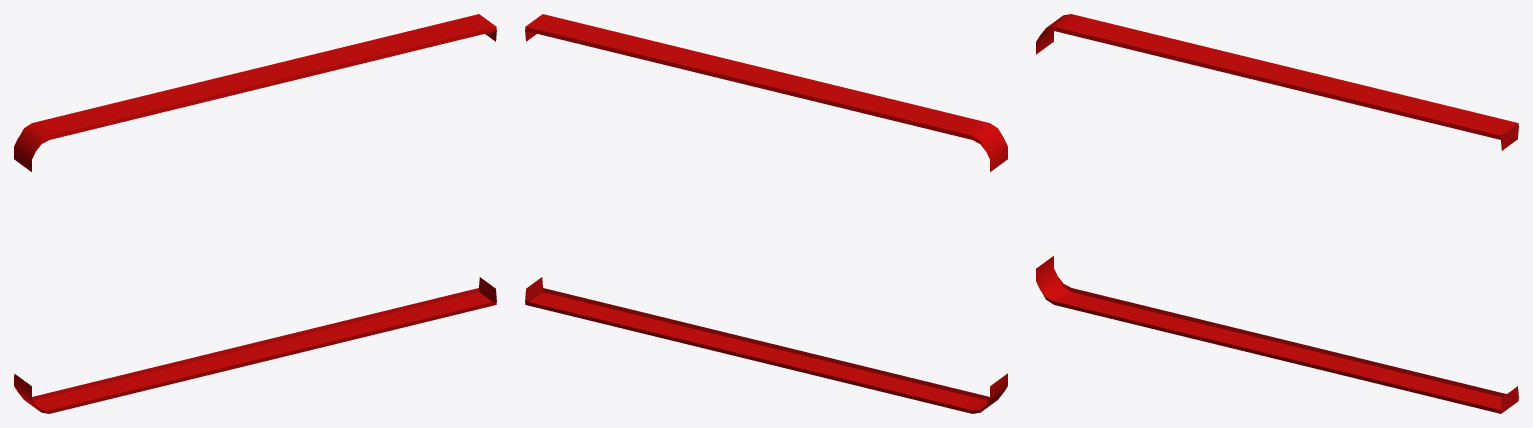
The model's file is MouseUSB_MouseRed_0.dae.
3 views of the same model, side by side, from view 1: azimuth 30°, elevation 25°; view 2: azimuth 150°, elevation 25°; view 3: azimuth 330°, elevation 25° (orthographic).
Parts seen in each view (by area): view 1: MouseUSB_MouseRed_0; view 2: MouseUSB_MouseRed_0; view 3: MouseUSB_MouseRed_0.
Part boxes in pixels (left/top/right/bottom): MouseUSB_MouseRed_0: left=14, top=14, right=496, bottom=413; MouseUSB_MouseRed_0: left=525, top=14, right=1007, bottom=413; MouseUSB_MouseRed_0: left=1036, top=14, right=1518, bottom=413.
Size of the model in its own units: 0.0395 by 0.0226 by 0.00266.
